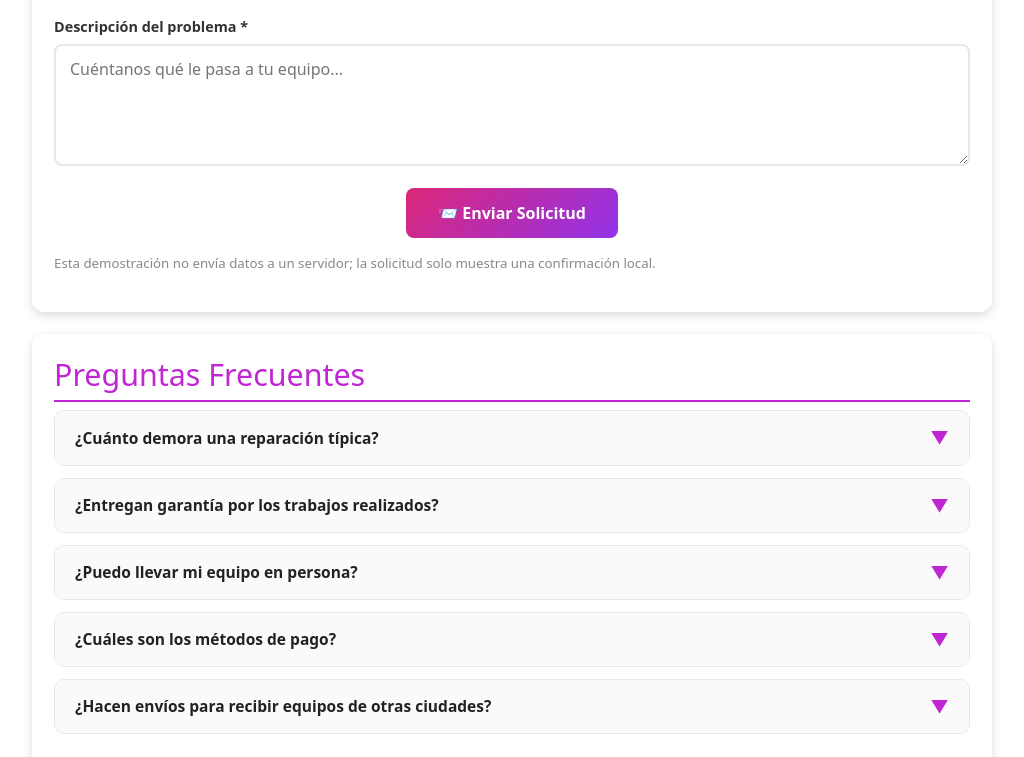
TechnicalServicePage › expands frequently asked questions
(page scrolled)
Click the button "¿Cuánto demora una reparación típica? ▼" at (227, 438), box x1=55 y1=411 x2=969 y2=464
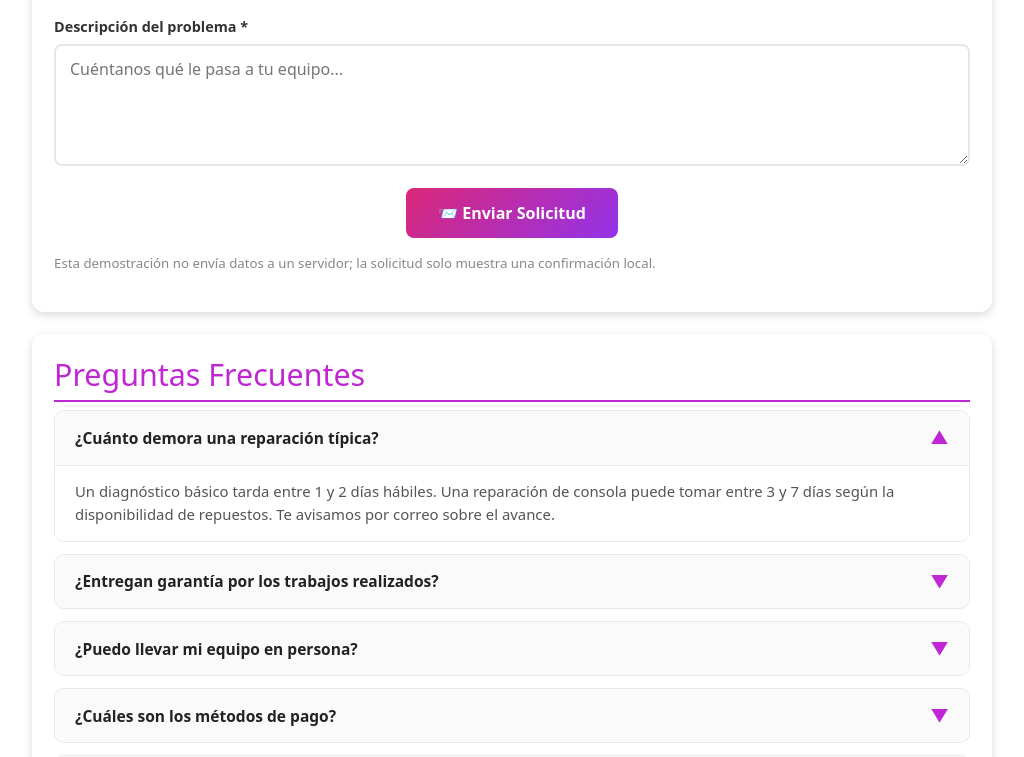
Now the button "¿Cuánto demora una reparación típica? ▼" is expanded, box x1=55 y1=411 x2=969 y2=464
Now the text "diagnóstico básico tarda entre 1 y 2 días hábiles" is shown, box x1=75 y1=480 x2=894 y2=524
